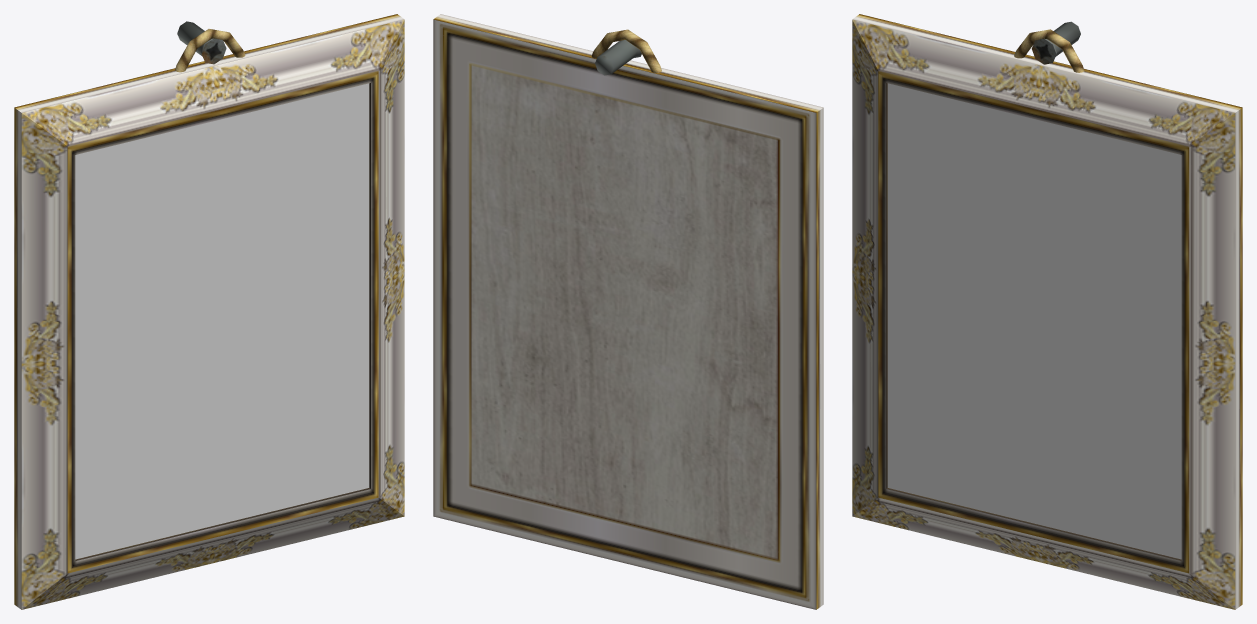
Rendered from frame-04.fbx.
3 renders of one model, left to right at view 1: azimuth 30°, elevation 25°; view 2: azimuth 150°, elevation 25°; view 3: azimuth 330°, elevation 25°, orthographic.
Visible parts, largest first — view 1: Plane.025, Plane.026; view 2: Plane.026; view 3: Plane.025, Plane.026.
Boxes of the visible parts, <box> form: Plane.025: <box>75,83,369,559</box>; Plane.026: <box>14,14,404,609</box>; Plane.026: <box>433,14,823,609</box>; Plane.025: <box>887,83,1181,559</box>; Plane.026: <box>852,14,1242,609</box>.
Size of the model in its own units: 0.8945 by 1.18 by 0.1502.
